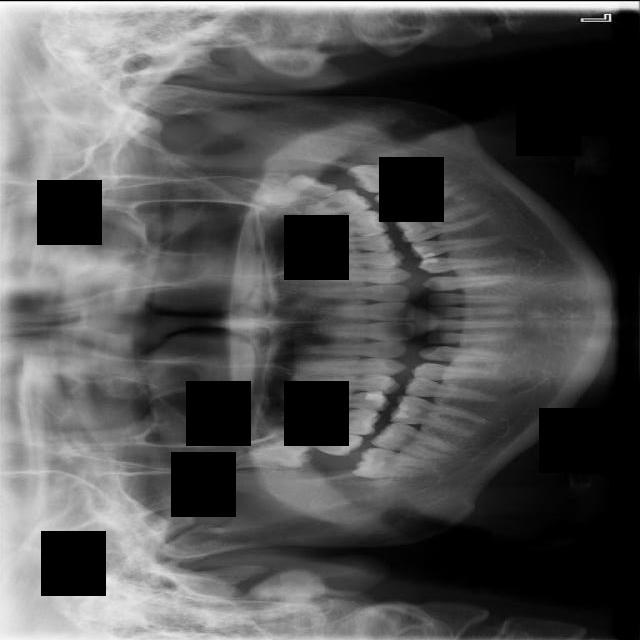3M ESPE Implant: (232, 442, 314, 468)
52: (387, 388, 430, 432), (409, 237, 442, 260), (354, 390, 391, 410), (417, 258, 448, 272)
73: (576, 28, 586, 36)
BioHorizons Implant: (287, 185, 373, 222)
BioLife Implant: (257, 163, 340, 216)
Biomet 3i Implant: (345, 162, 426, 193)
Blue Sky Bio Implant: (374, 173, 465, 221)
Caries: (270, 425, 364, 458)
Implant: (367, 415, 461, 464)
Keystone Dental Implant: (352, 447, 438, 478)
